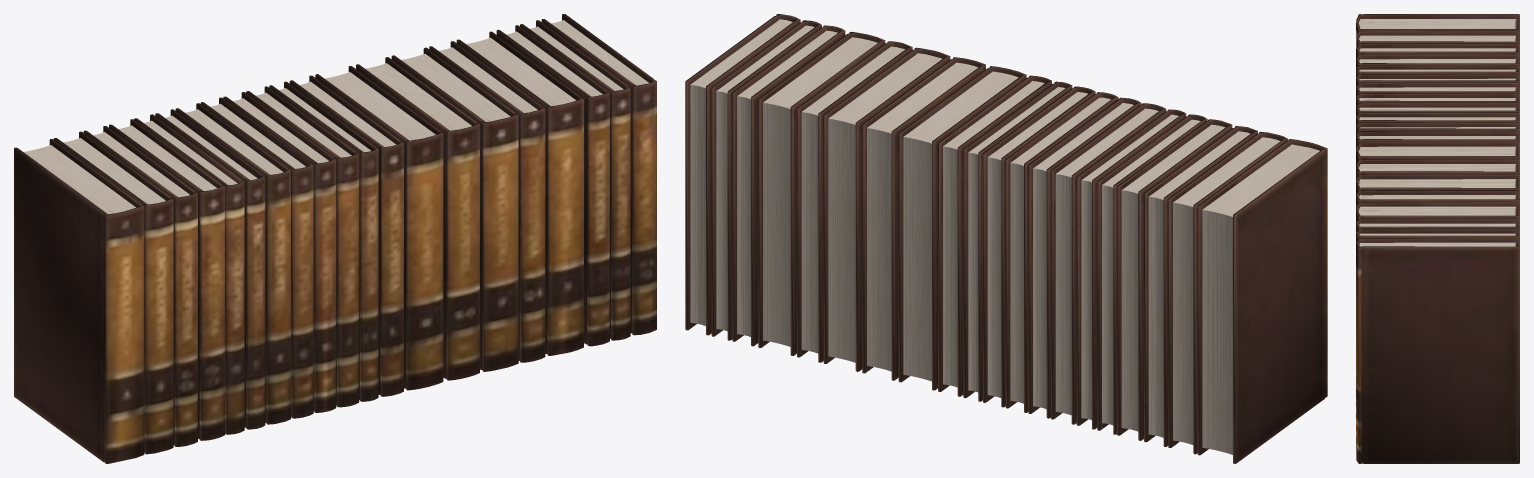
Rendered from book_encyclopedia_set_01.glb.
The picture shows the model from 3 angles, left to right: view 1: azimuth 30°, elevation 25°; view 2: azimuth 150°, elevation 25°; view 3: azimuth 270°, elevation 25°; orthographic projection. The views are drawn at different scales.
Visible parts, largest first — view 1: book_encyclopedia_set_01_book01, book_encyclopedia_set_01_book13, book_encyclopedia_set_01_book15, book_encyclopedia_set_01_book17, book_encyclopedia_set_01_book14, book_encyclopedia_set_01_book02, book_encyclopedia_set_01_book16, book_encyclopedia_set_01_book04, book_encyclopedia_set_01_book20, book_encyclopedia_set_01_book18, book_encyclopedia_set_01_book07, book_encyclopedia_set_01_book12 (+8 smaller); view 2: book_encyclopedia_set_01_book01, book_encyclopedia_set_01_book13, book_encyclopedia_set_01_book15, book_encyclopedia_set_01_book17, book_encyclopedia_set_01_book14, book_encyclopedia_set_01_book02, book_encyclopedia_set_01_book04, book_encyclopedia_set_01_book16, book_encyclopedia_set_01_book18, book_encyclopedia_set_01_book20, book_encyclopedia_set_01_book07, book_encyclopedia_set_01_book12 (+8 smaller); view 3: book_encyclopedia_set_01_book20, book_encyclopedia_set_01_book13, book_encyclopedia_set_01_book17, book_encyclopedia_set_01_book01, book_encyclopedia_set_01_book15, book_encyclopedia_set_01_book14, book_encyclopedia_set_01_book02, book_encyclopedia_set_01_book16, book_encyclopedia_set_01_book03, book_encyclopedia_set_01_book04, book_encyclopedia_set_01_book12, book_encyclopedia_set_01_book07 (+8 smaller).
Part boxes in pixels (x1,y1,x2,y2): book_encyclopedia_set_01_book01: [14, 139, 144, 463]; book_encyclopedia_set_01_book13: [315, 66, 443, 390]; book_encyclopedia_set_01_book15: [391, 47, 518, 371]; book_encyclopedia_set_01_book17: [456, 31, 583, 355]; book_encyclopedia_set_01_book14: [356, 57, 479, 380]; book_encyclopedia_set_01_book02: [53, 131, 173, 454]; book_encyclopedia_set_01_book16: [429, 41, 545, 362]; book_encyclopedia_set_01_book04: [109, 119, 224, 440]; book_encyclopedia_set_01_book20: [541, 14, 656, 335]; book_encyclopedia_set_01_book18: [496, 25, 609, 346]; book_encyclopedia_set_01_book07: [175, 103, 290, 424]; book_encyclopedia_set_01_book12: [289, 75, 403, 396]; book_encyclopedia_set_01_book01: [1197, 139, 1327, 463]; book_encyclopedia_set_01_book13: [898, 66, 1026, 390]; book_encyclopedia_set_01_book15: [823, 47, 950, 371]; book_encyclopedia_set_01_book17: [758, 32, 885, 355]; book_encyclopedia_set_01_book14: [862, 57, 985, 380]; book_encyclopedia_set_01_book02: [1168, 131, 1287, 454]; book_encyclopedia_set_01_book04: [1117, 119, 1232, 440]; book_encyclopedia_set_01_book16: [797, 41, 912, 362]; book_encyclopedia_set_01_book18: [732, 25, 845, 346]; book_encyclopedia_set_01_book20: [685, 14, 800, 335]; book_encyclopedia_set_01_book07: [1051, 103, 1166, 424]; book_encyclopedia_set_01_book12: [938, 75, 1051, 396]; book_encyclopedia_set_01_book20: [1356, 238, 1519, 463]; book_encyclopedia_set_01_book13: [1356, 142, 1519, 181]; book_encyclopedia_set_01_book17: [1356, 202, 1519, 222]; book_encyclopedia_set_01_book01: [1356, 14, 1519, 34]; book_encyclopedia_set_01_book15: [1356, 174, 1519, 194]; book_encyclopedia_set_01_book14: [1356, 159, 1519, 178]; book_encyclopedia_set_01_book02: [1356, 30, 1519, 47]; book_encyclopedia_set_01_book16: [1356, 190, 1519, 209]; book_encyclopedia_set_01_book03: [1356, 43, 1519, 59]; book_encyclopedia_set_01_book04: [1356, 54, 1519, 77]; book_encyclopedia_set_01_book12: [1356, 131, 1519, 149]; book_encyclopedia_set_01_book07: [1356, 82, 1519, 96].
Bounding box in the file's own units: 0.5513 × 0.2374 × 0.1631.
Materials: 2 (2 with a texture image).
